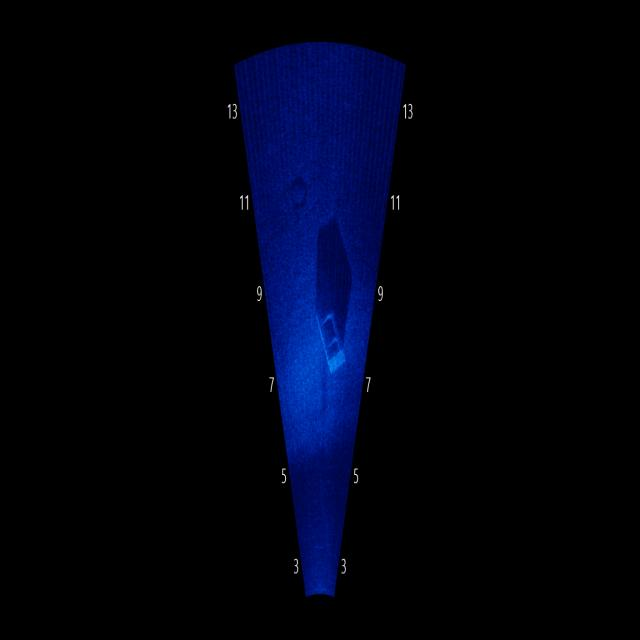square: (313, 293, 355, 390)
